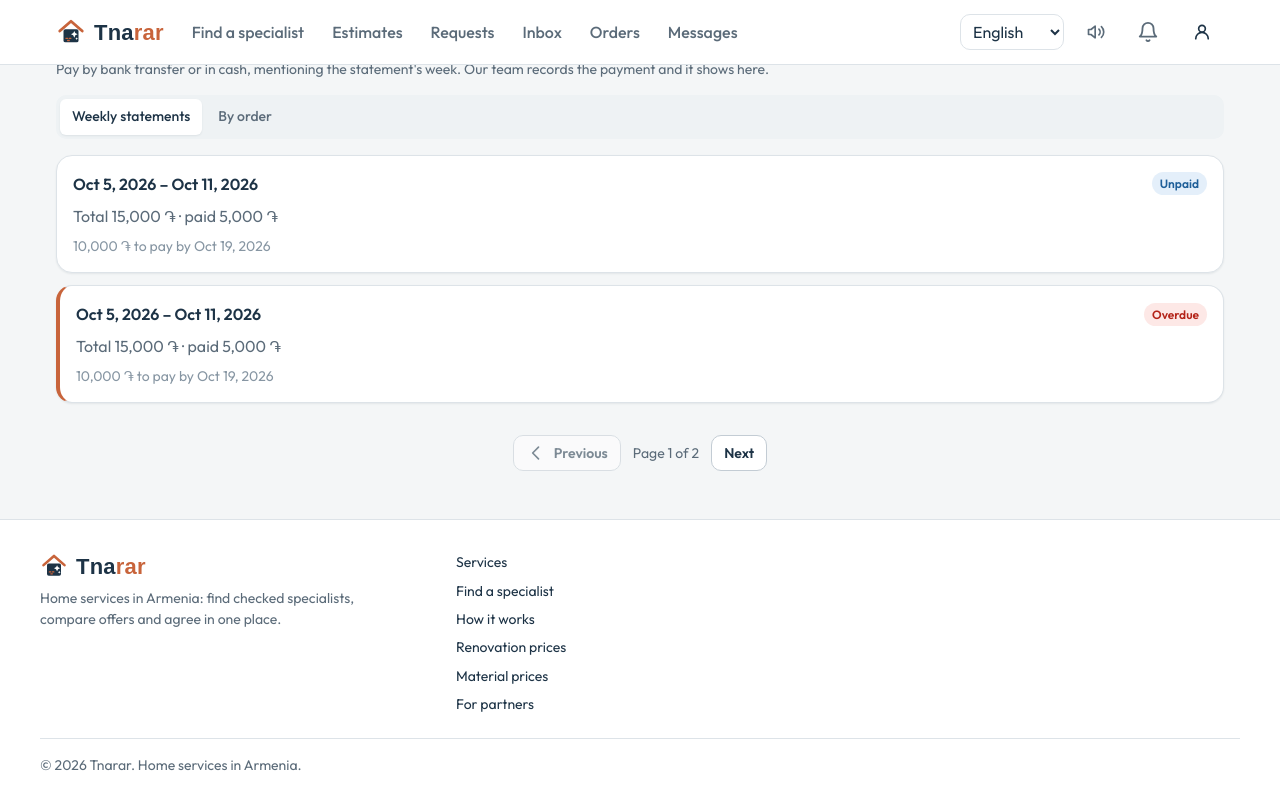
Test case: Commissions page › shows the totals and weekly statements, and the commission on each order
(page scrolled)
Expected: the 1st text "Total 15,000 ֏ · paid 5,000 ֏" is shown, [73, 206, 278, 226]
Expected: the text "Overdue" is shown, [1144, 303, 1207, 326]
Click the button "Next".
click(739, 454)  # box [711, 436, 767, 472]
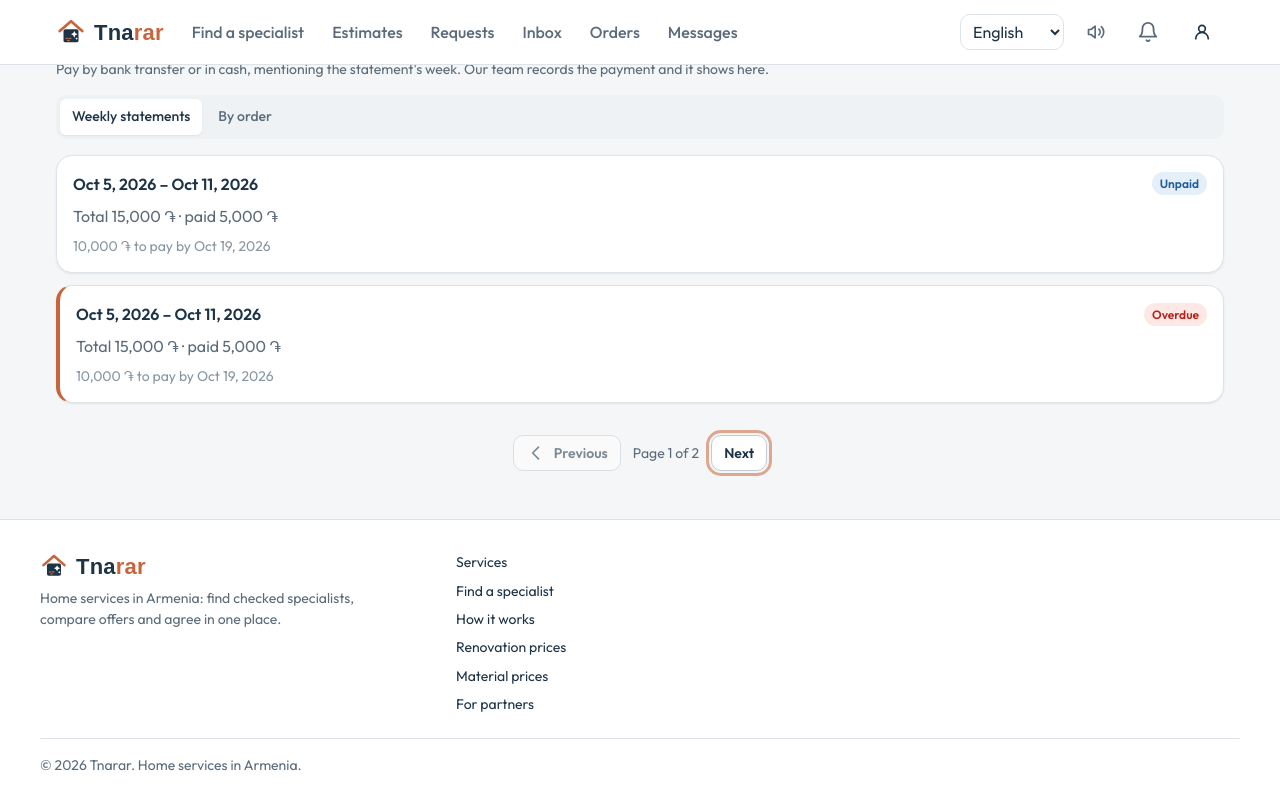
Click the radio button labelled "By order".
click(245, 117)  # box [206, 99, 284, 135]
(page scrolled)
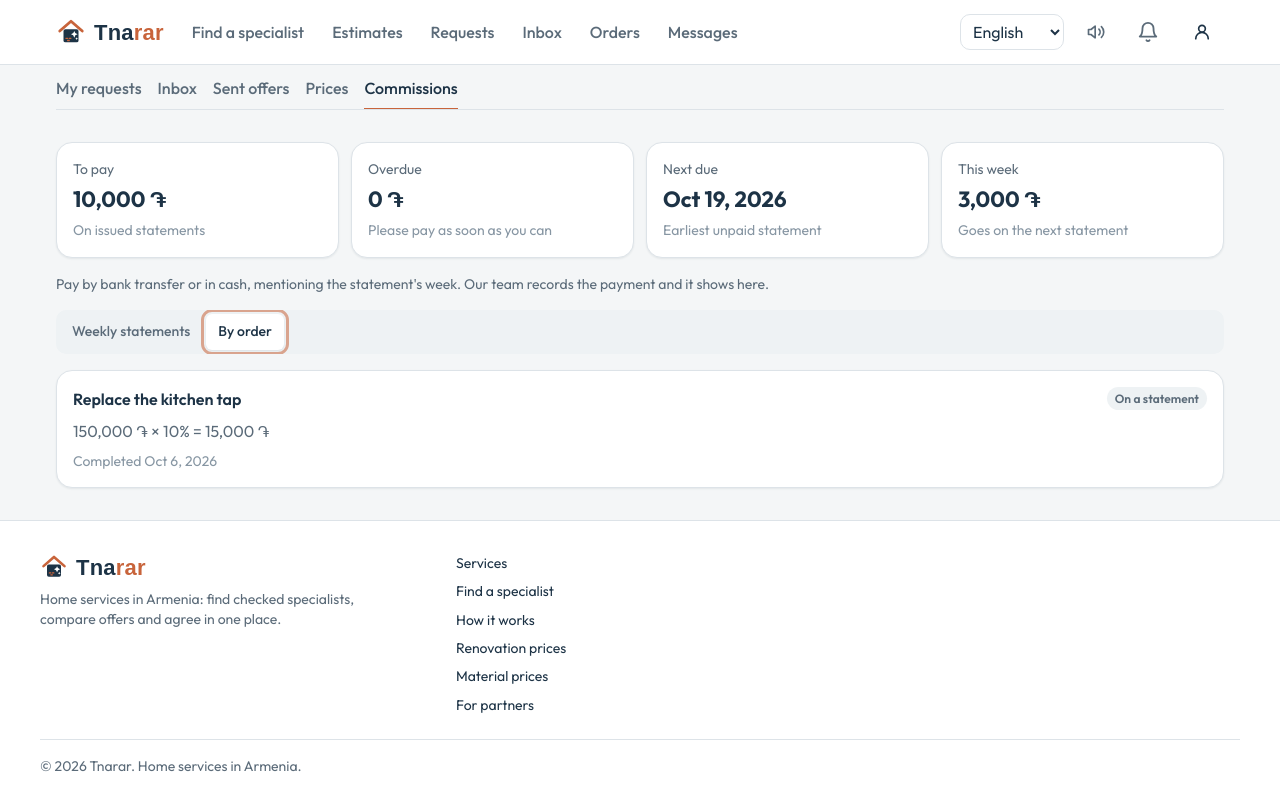
Now the text "150,000 ֏ × 10% = 15,000 ֏" is shown, box [73, 421, 269, 441]
Now the text "On a statement" is shown, box [1107, 387, 1207, 410]
